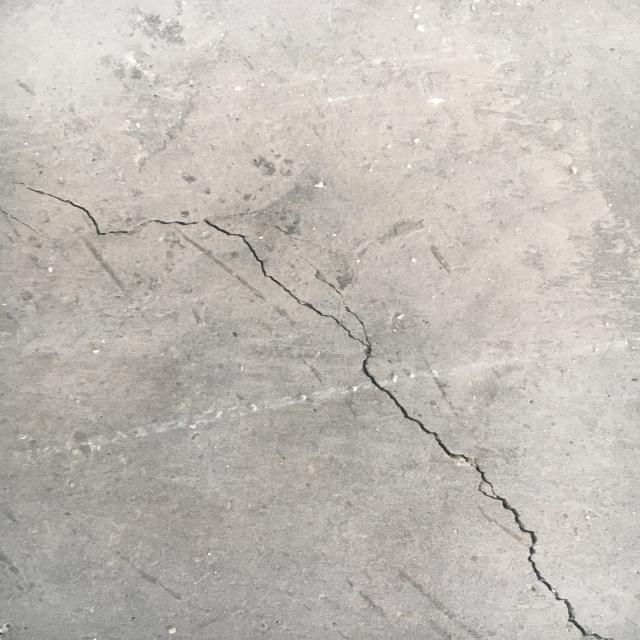Rachadura: (18, 177, 616, 640)
